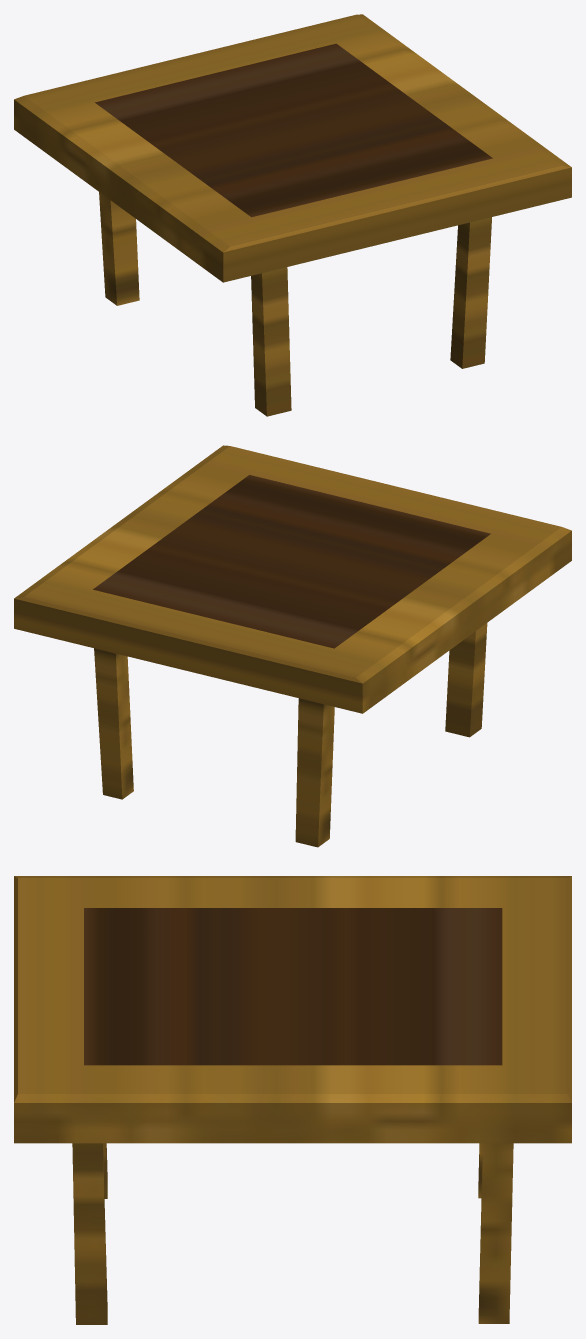
The model's file is bedside_table.fbx.
The picture shows the model from 3 angles, top to bottom: view 1: azimuth 30°, elevation 25°; view 2: azimuth 150°, elevation 25°; view 3: azimuth 270°, elevation 25°; orthographic projection. The views are drawn at different scales.
Visible parts, largest first — view 1: pCube11; view 2: pCube11; view 3: pCube11.
Part boxes in pixels (x1,y1,x2,y2): pCube11: [14, 14, 571, 416]; pCube11: [14, 445, 571, 847]; pCube11: [14, 876, 571, 1324].
Size of the model in its own units: 3.65 by 2 by 3.79.
